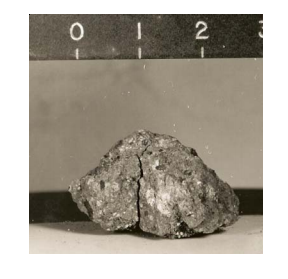Breccia: (80, 131, 241, 243)
